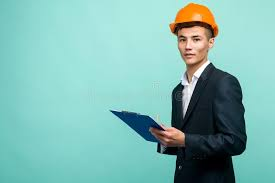Person_wearing_helmet: (164, 0, 223, 44)
